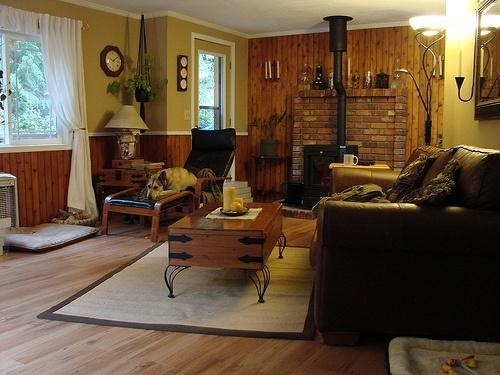chair: (183, 128, 238, 213)
dog: (141, 163, 198, 200)
pottedplant: (106, 53, 169, 103), (250, 107, 291, 158)
sofa: (317, 144, 500, 347)
